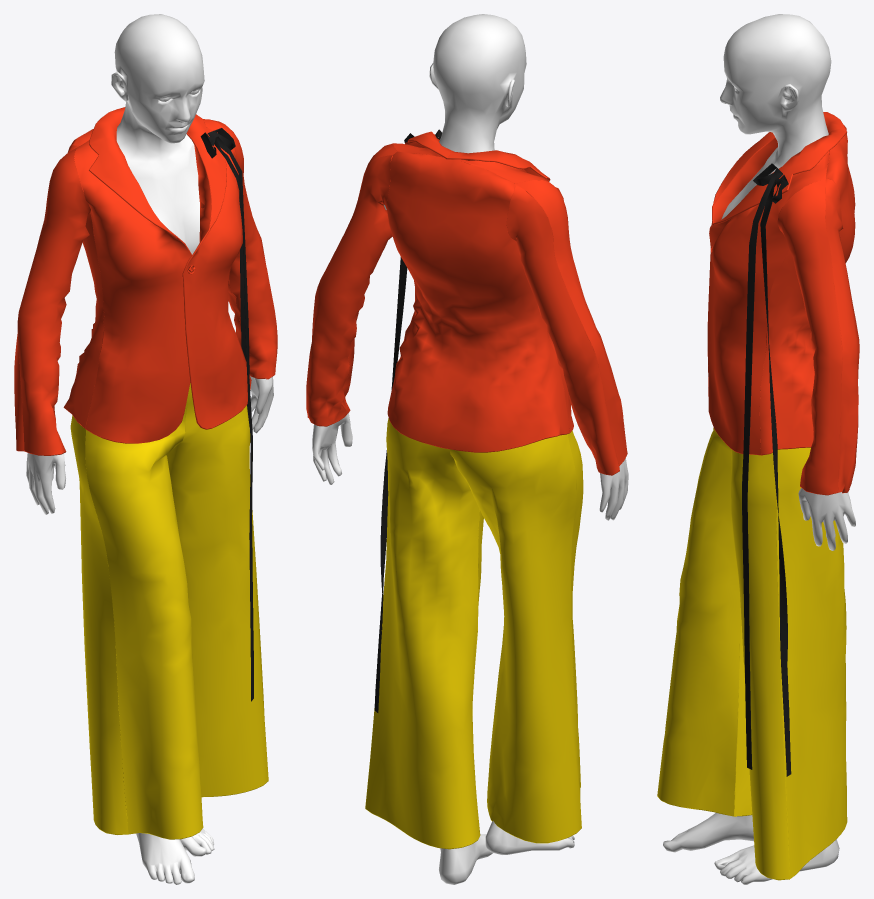
Rendered from dries4.fbx.
The picture shows the model from 3 angles, left to right: view 1: azimuth 30°, elevation 25°; view 2: azimuth 150°, elevation 25°; view 3: azimuth 270°, elevation 25°; orthographic projection. The views are drawn at different scales.
Parts seen in each view (by area): view 1: Dries4; view 2: Dries4; view 3: Dries4.
Part boxes in pixels (left/top/right/bottom): Dries4: left=14, top=14, right=277, bottom=884; Dries4: left=306, top=14, right=628, bottom=884; Dries4: left=657, top=14, right=859, bottom=884.
Bounding box in the file's own units: 68.34 × 194 × 42.01.
